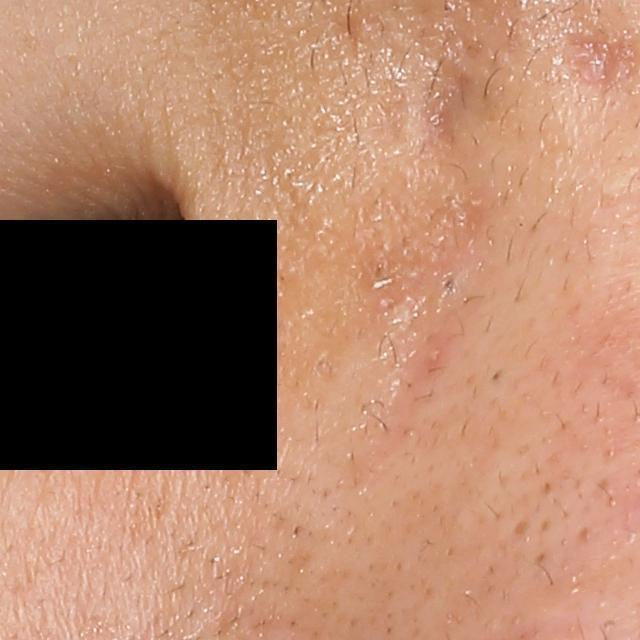atrophic_scar: (412, 49, 487, 150), (567, 32, 626, 90)
